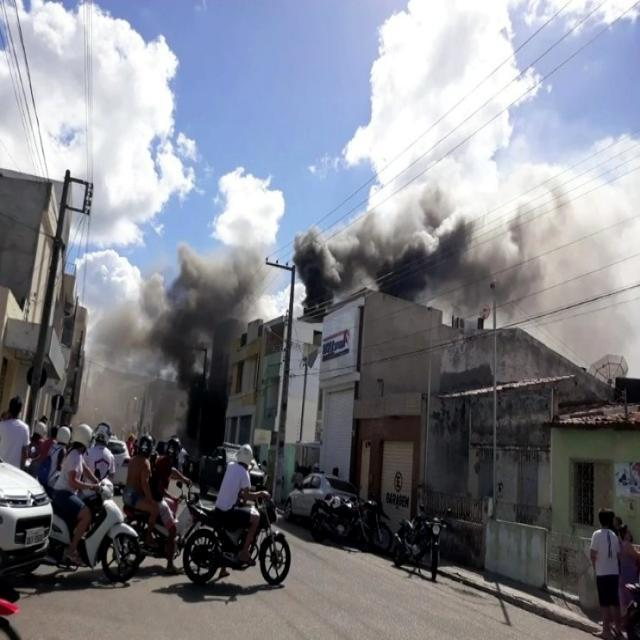Smoke: (296, 186, 587, 344), (118, 239, 268, 404)
